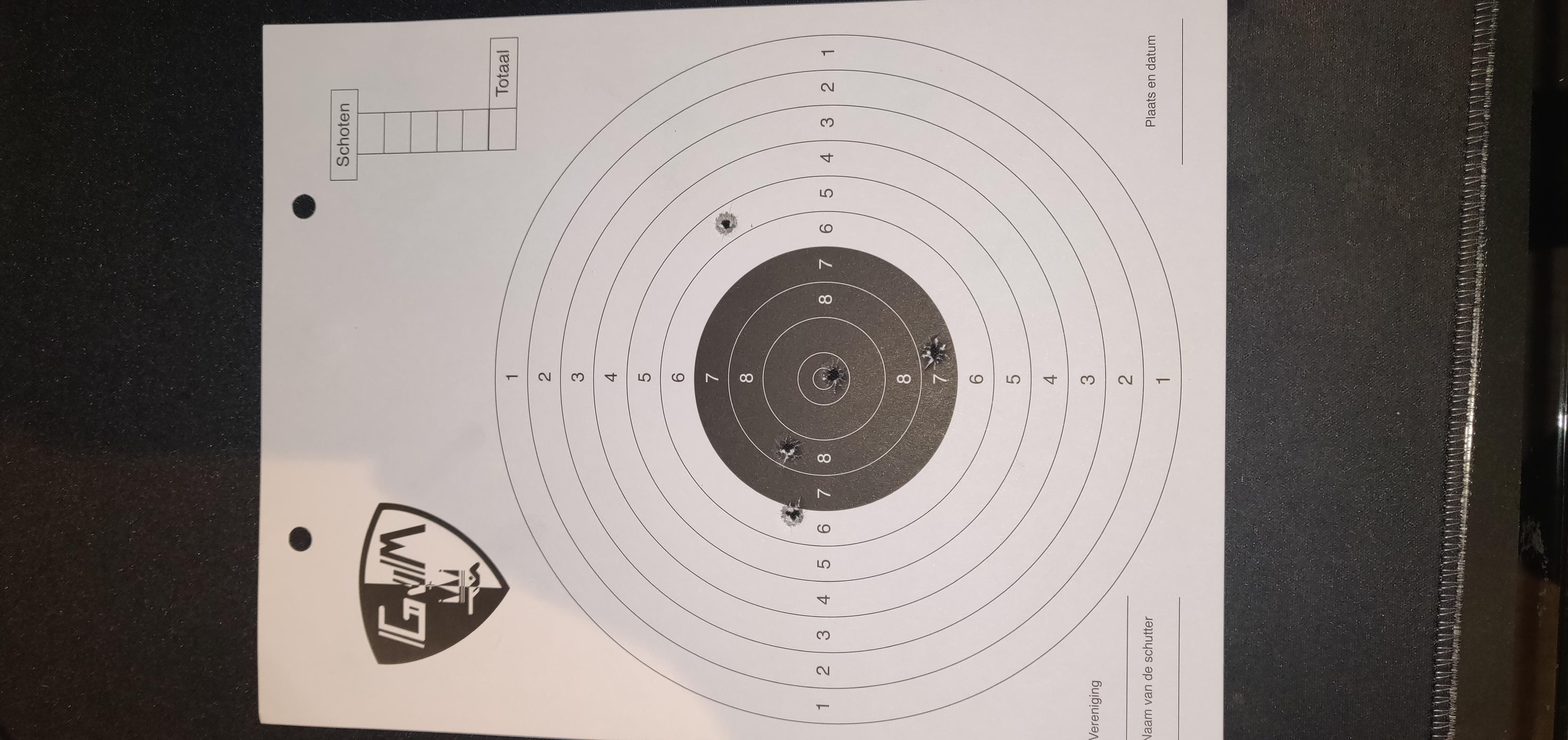hole: (788, 434, 858, 448), (580, 365, 642, 380), (442, 368, 510, 380), (740, 388, 805, 400), (1066, 337, 1121, 349)
